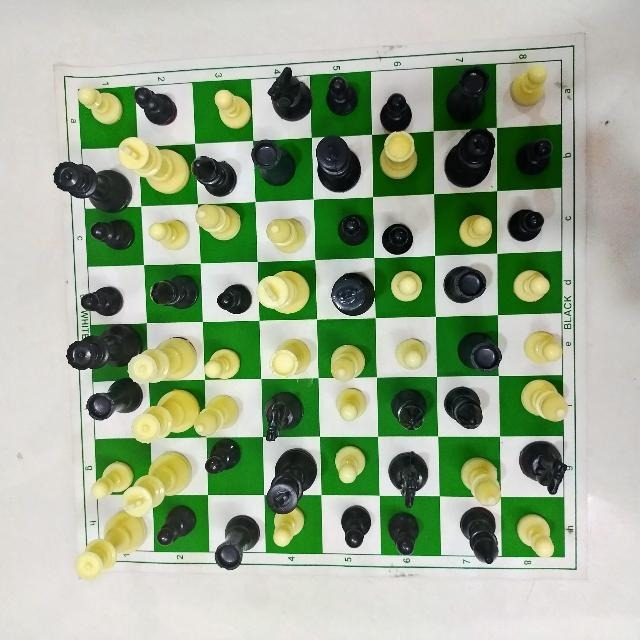black-bishop: (461, 506, 501, 567), (146, 274, 199, 314), (191, 154, 239, 196), (443, 386, 485, 433), (390, 386, 428, 433)
black-king: (264, 449, 316, 513), (314, 134, 362, 194), (328, 271, 374, 319)
black-knight: (268, 66, 314, 124), (519, 440, 566, 496), (387, 451, 429, 507), (262, 391, 304, 442)
black-pawn: (154, 504, 197, 547), (133, 87, 178, 124), (87, 219, 134, 253), (203, 438, 242, 478), (325, 73, 359, 118), (515, 137, 555, 175), (386, 512, 419, 558), (339, 505, 371, 549), (507, 209, 545, 245), (81, 285, 124, 316), (380, 93, 411, 131), (335, 213, 370, 246), (379, 222, 413, 255), (218, 283, 252, 316)
black-queen: (54, 160, 134, 211), (64, 325, 142, 373), (444, 126, 500, 188)
black-rook: (446, 63, 493, 121), (213, 513, 259, 568), (85, 379, 138, 421), (456, 331, 504, 375), (249, 138, 293, 182), (444, 265, 486, 304)
white-bishop: (458, 456, 502, 508), (520, 378, 568, 424), (263, 213, 306, 259), (193, 394, 238, 436), (194, 202, 242, 238), (327, 345, 366, 381)
white-king: (122, 450, 191, 518), (117, 135, 190, 197), (255, 271, 314, 319)
white-pawn: (514, 509, 556, 559), (75, 86, 126, 126), (507, 64, 549, 109), (91, 461, 135, 500), (212, 88, 252, 129), (271, 506, 308, 548), (147, 217, 190, 253), (512, 268, 552, 304), (522, 330, 564, 364), (203, 347, 243, 382), (334, 443, 367, 485), (458, 214, 494, 248), (334, 387, 368, 423), (390, 269, 422, 303), (395, 338, 429, 370)
white-queen: (74, 515, 147, 581), (128, 387, 203, 446), (130, 334, 195, 387)
white-rook: (377, 130, 419, 184), (268, 336, 311, 382)
